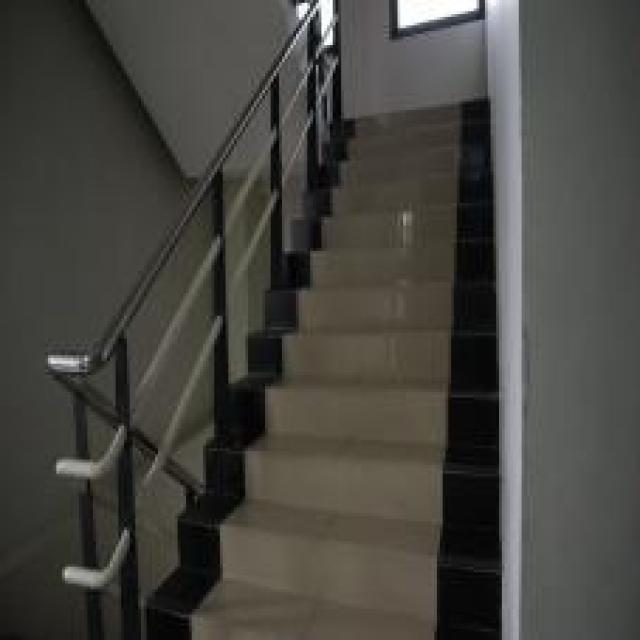upstair: (280, 108, 483, 633)
